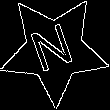N_S: (28, 19, 81, 81)
